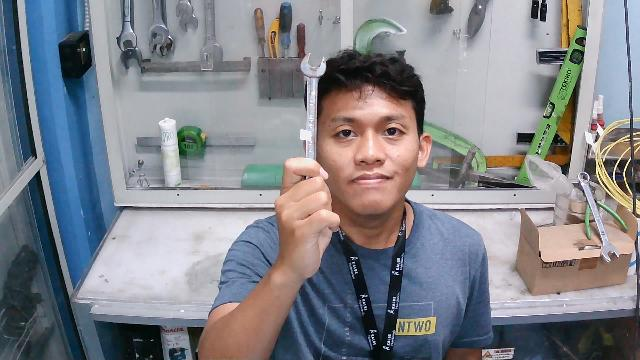kunci_pass_13: (290, 47, 334, 195)
